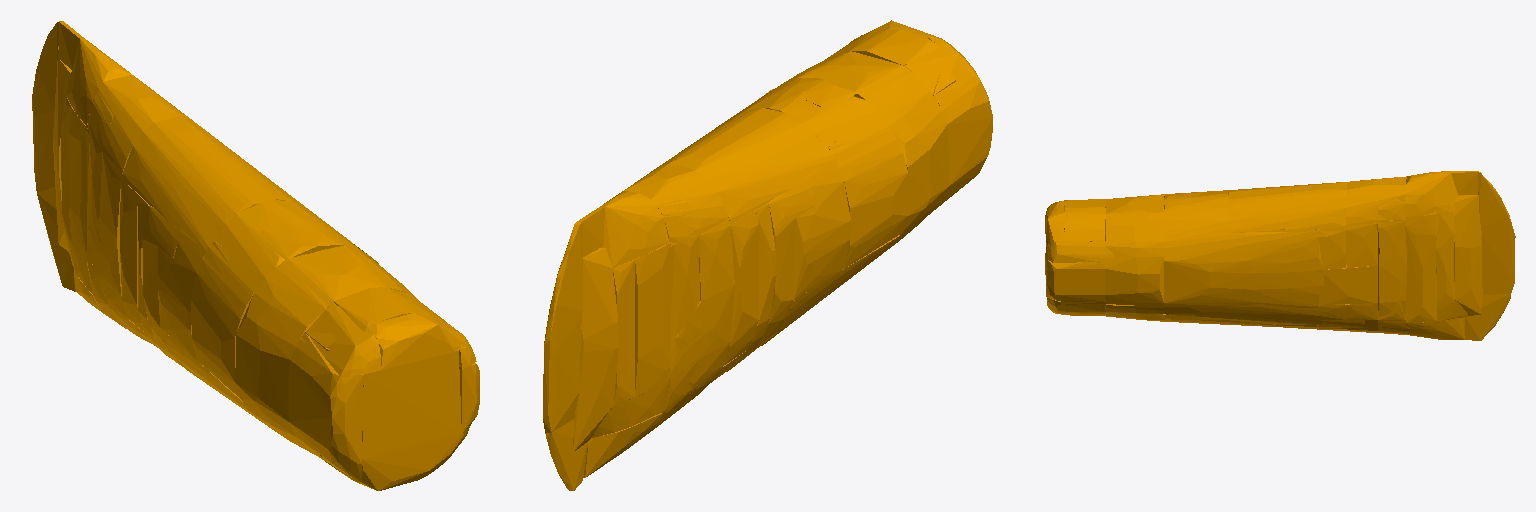
robot.urdf — tube-bb:
<?xml version="1.0" ?>
<robot name="tube-bb">
  <link name="baseLink">
    <contact>
      <lateral_friction value="1.0"/>
      <inertia_scaling value="3.0"/>
    </contact>
    <inertial>
      <origin rpy="0 0 0" xyz="0.000 0.000 0.000"/>
       <mass value=".1"/>
       <inertia ixx="1" ixy="0.0" ixz="0.0" iyy="1" iyz="0.0" izz="1"/>
    </inertial>
    <visual>
      <origin rpy="0 0 0" xyz="0 0 0"/>
      <geometry>
        <mesh filename="tube/tube-bb_cream.obj" scale="1.0 1.0 1.0"/>
      </geometry>
    </visual>
    <collision>
      <origin rpy="0 0 0" xyz="0 0 0"/>
      <geometry>
        <mesh filename="../collision/tube/tube-bb_cream.obj" scale="1.0 1.0 1.0"/>
      </geometry>
    </collision>
  </link>
</robot>
        

--- Facts derived from the render (not from the file) ---
Views: 3 orthographic renders of the robot side by side, from view 1: azimuth 30°, elevation 25°; view 2: azimuth 150°, elevation 25°; view 3: azimuth 270°, elevation 25°.
Model tube-bb with 1 links and 0 joints (none), rooted at baseLink, posed every joint at zero.
Links seen in each view (by area): view 1: baseLink; view 2: baseLink; view 3: baseLink.
Boxes of the visible links, x1,y1,x2,y2 form: baseLink: (32,21,479,490); baseLink: (543,20,992,490); baseLink: (1045,171,1515,340).
Size in the robot's own frame: 0.0293 by 0.1171 by 0.0459 metres.
Meshes: 1 distinct files referenced, 1 mesh visuals loaded (1 OBJ).